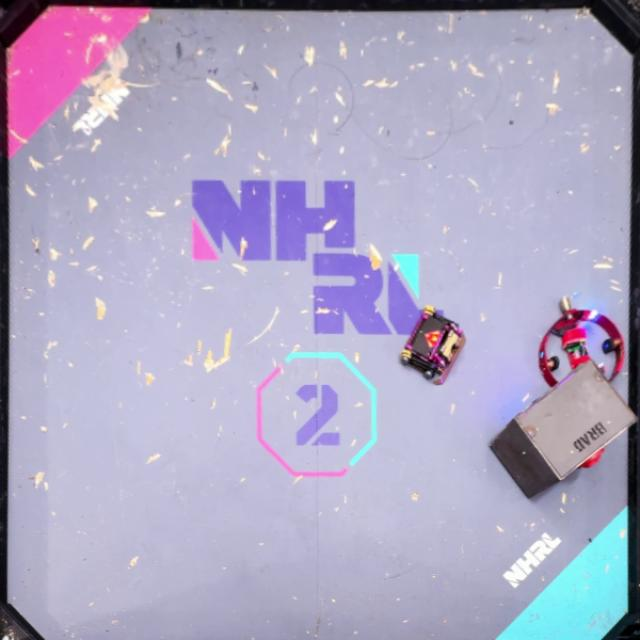housebot: (488, 360, 640, 500)
robot: (537, 297, 625, 388), (398, 306, 467, 384)
